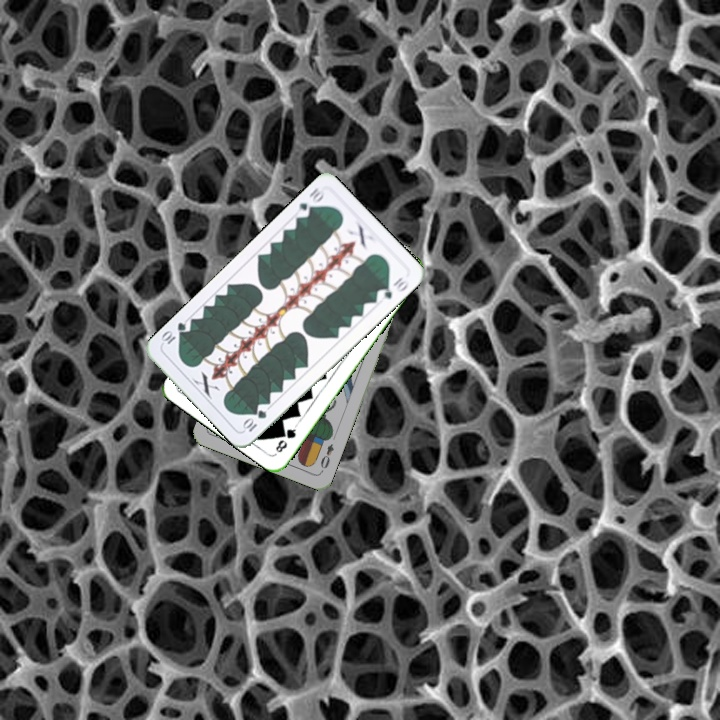EO: (316, 440, 336, 475)
G10: (295, 184, 328, 221), (239, 406, 269, 435)
G8: (271, 421, 300, 455)
